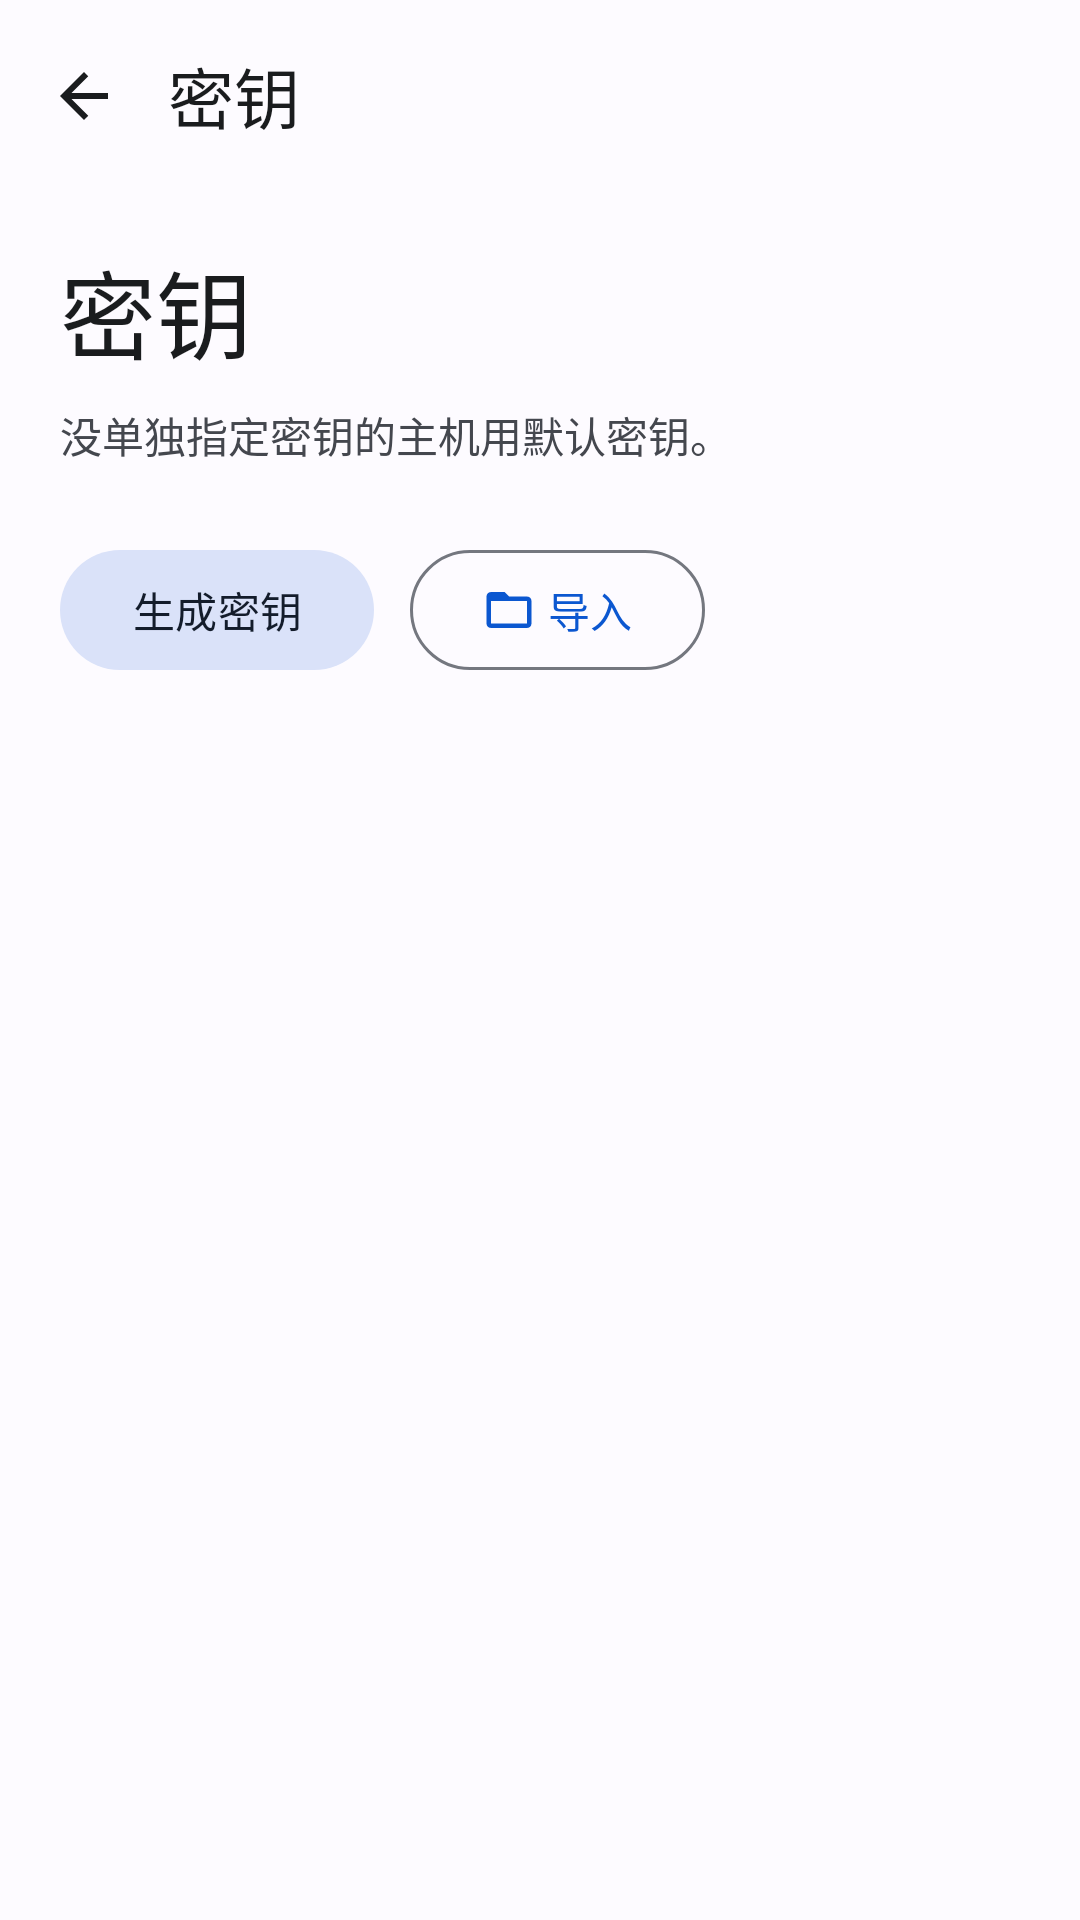

Point at icon controls on the screen. Image size 1080w x 1920h, points as [x,y].
返回: [84,96]
